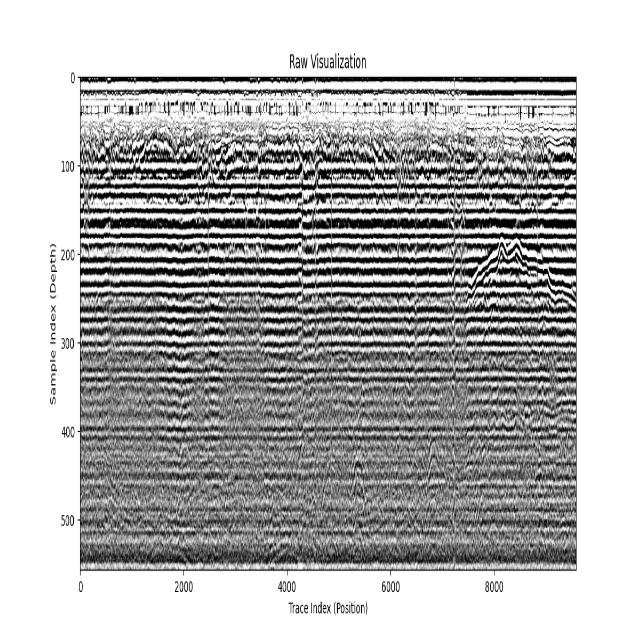anomaly: (465, 232, 577, 328)
